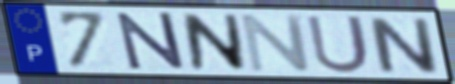7: (56, 9, 109, 70)
N: (364, 15, 443, 75), (113, 11, 189, 72), (238, 13, 315, 73), (179, 12, 249, 72)
U: (303, 14, 373, 76)
